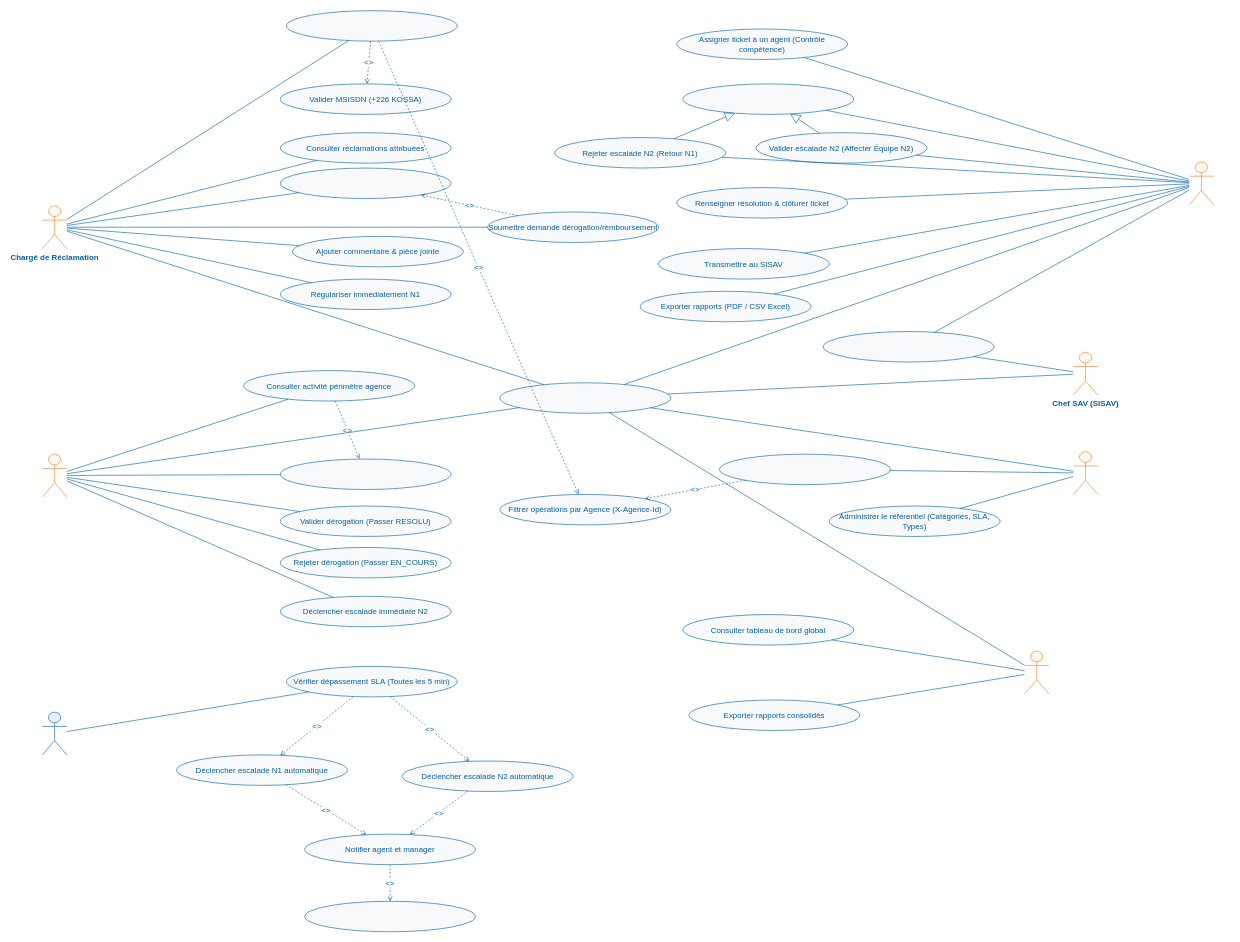
This 1240x942 diagram has some shape labels left out. The shapes that lost their labels are listed below. From the top down, each one's box as (x1, y1, x2, y2) in pixels, then its label:
(286, 10, 457, 41): Saisir réclamation (Point d'entrée)
(682, 83, 854, 114): Examiner demande escalade N2
(280, 167, 451, 199): Traiter réclamation (Passer en cours)
(1189, 161, 1214, 205): Chef d'Agence
(823, 331, 994, 362): Consulter tableau de bord Chef d'Agence
(499, 382, 671, 413): Authentification JWT (Login)
(42, 454, 67, 497): Superviseur d'Agence
(280, 458, 451, 490): Choisir domaine de supervision
(719, 454, 890, 485): Gérer les utilisateurs (CRUD, Équipe, Agence)
(1073, 451, 1098, 494): Administrateur
(1024, 651, 1049, 694): Gestionnaire
(42, 712, 67, 755): Système SLA
(304, 901, 475, 932): Envoyer SMS au client
